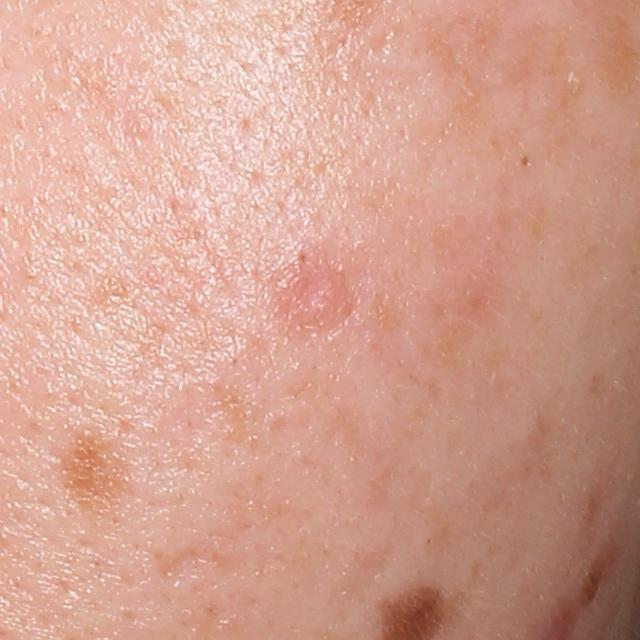atrophic_scar: (158, 545, 212, 585)
melasma: (422, 9, 553, 133), (62, 431, 133, 511)
